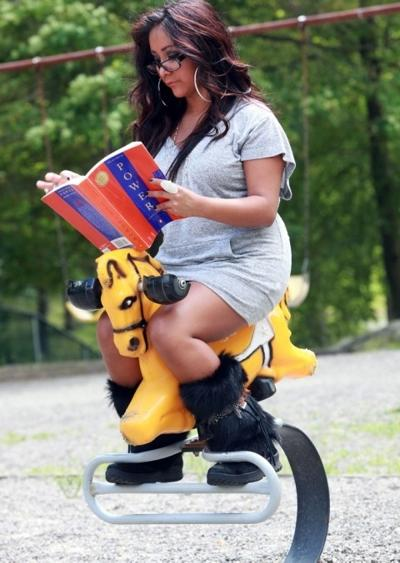person: (98, 6, 295, 492)
